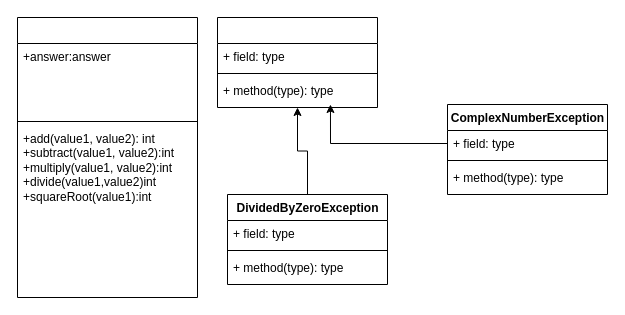
This 625x315 diagram has some shape labels left out. Here are the shapes that lost their labels. From the top down, the box of each, then its label:
(216, 16, 378, 108): ArithmeticException
(16, 16, 198, 298): Calculator
